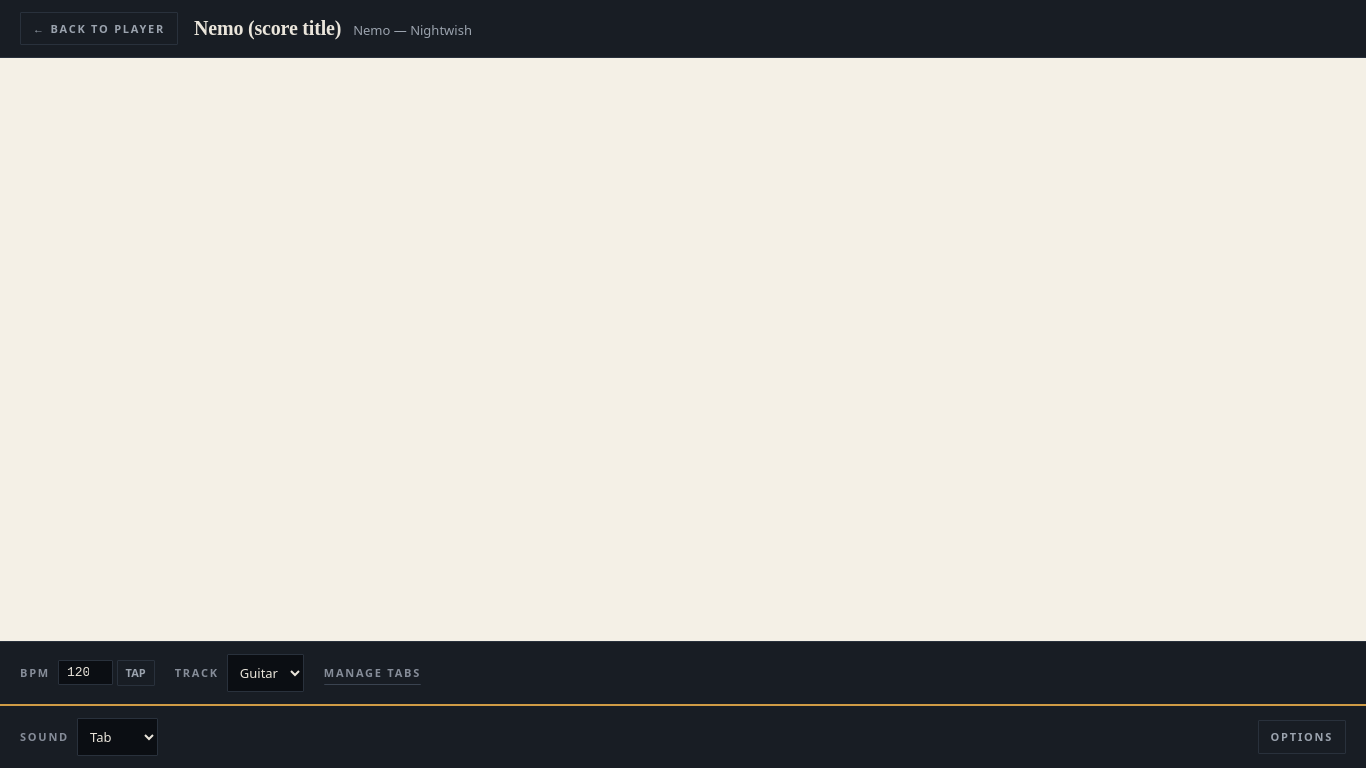
Test: TabViewer › sync with Spotify › plays Spotify from a clicked note, keeping the offset
The image size is (1366, 768).
Select "Spotify" in the dropdown labelled "Sound": (118, 737) [77,718,158,756]
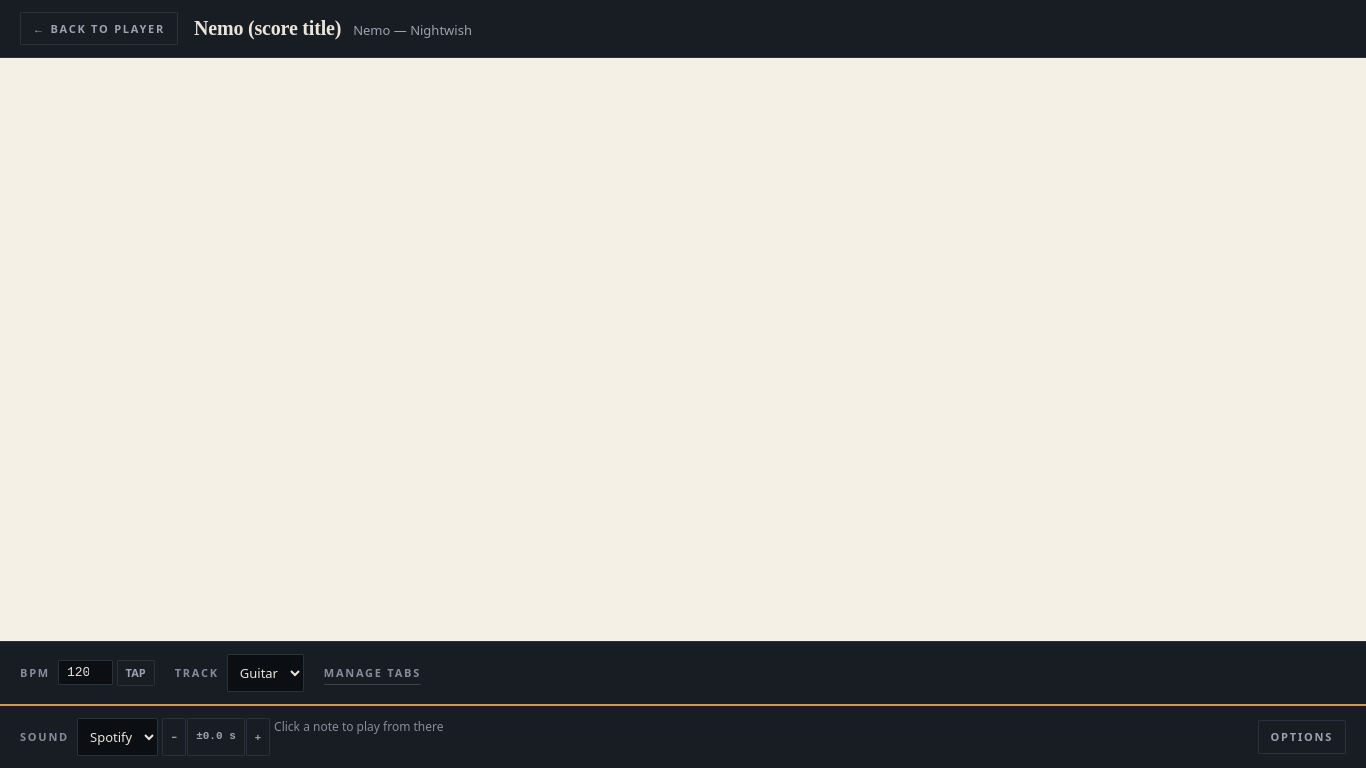
Click the button named "Move the tab half a second later": (258, 737) [246,718,270,756]
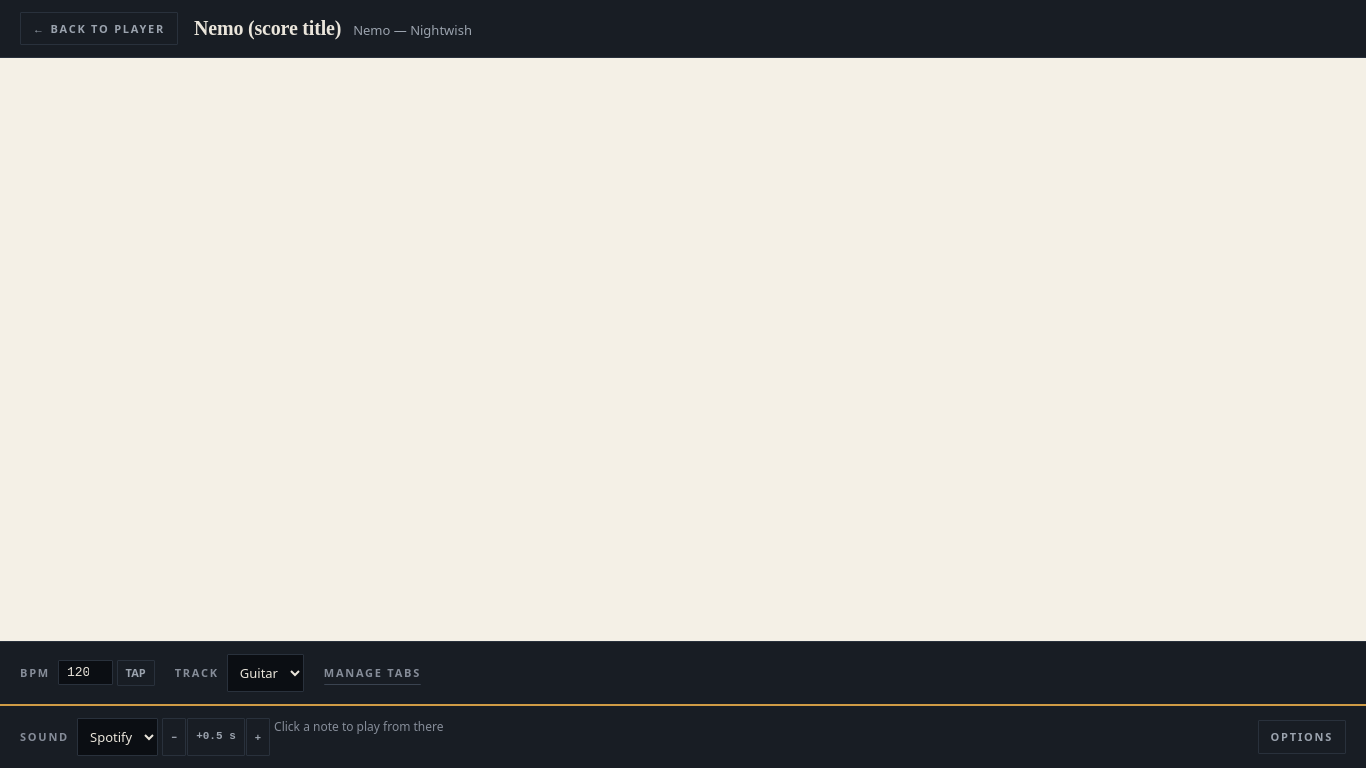
Result: the button named "Offset +0.5 s, click to reset" is shown at [187,718,245,756]
